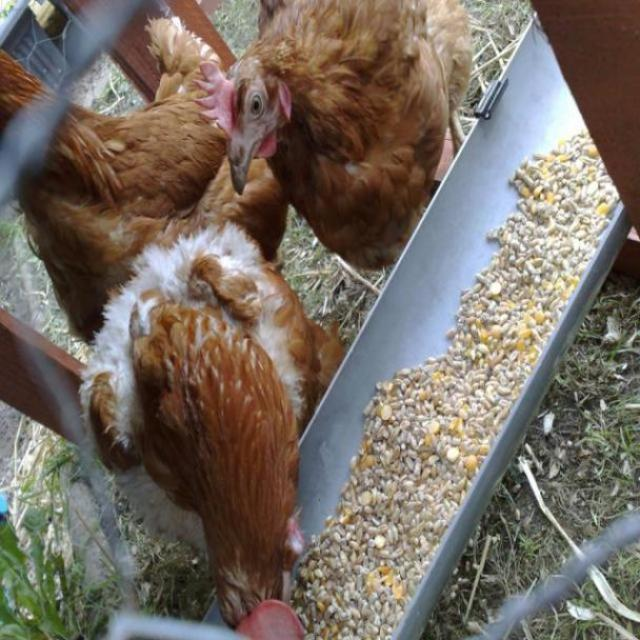Chicken: (80, 222, 346, 639), (0, 14, 292, 351), (215, 13, 469, 285)
